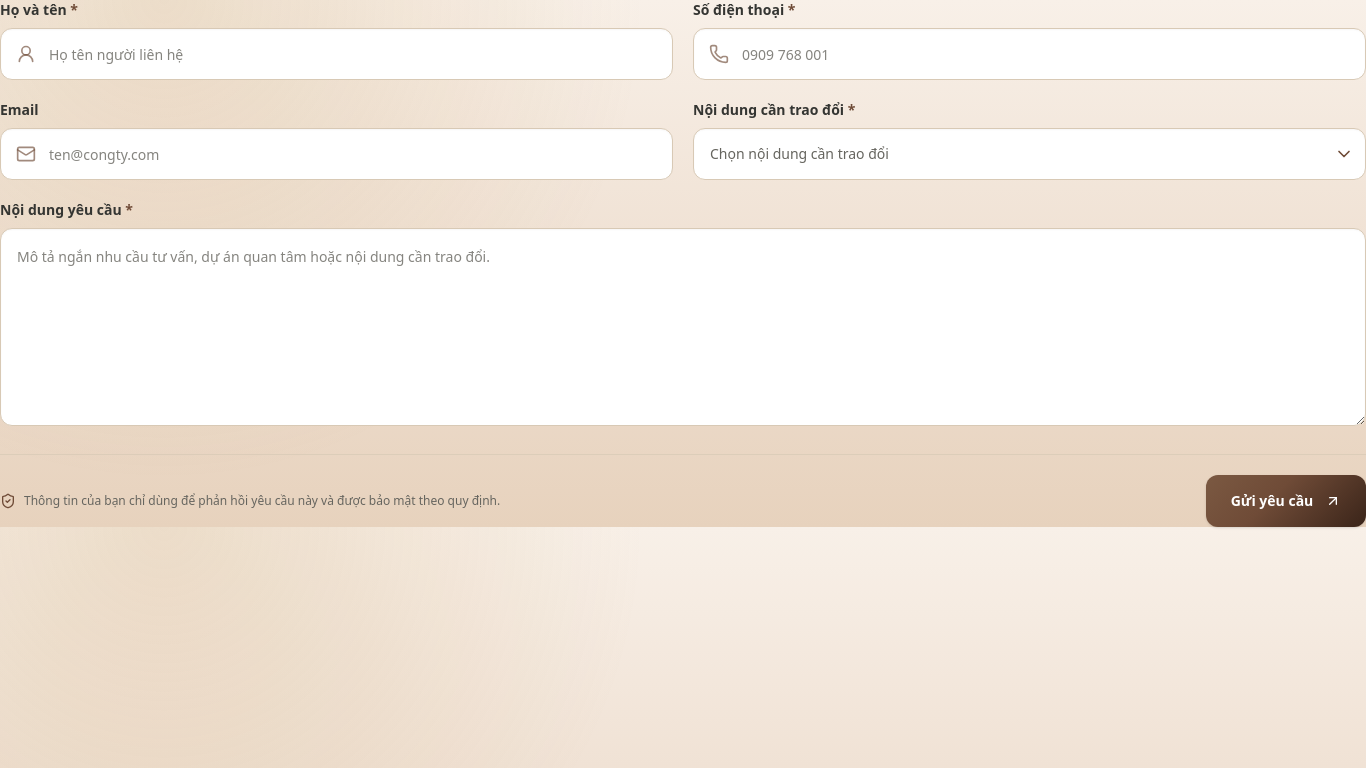
Test: ContactForm › gửi hợp lệ → gọi API với phone đã chuẩn hóa, hiện màn hình thành công
Type "Nguyễn Văn A" into the field labelled "Họ và tên *".
click(336, 54); type("Nguyễn Văn A")  # box x1=0 y1=28 x2=673 y2=80
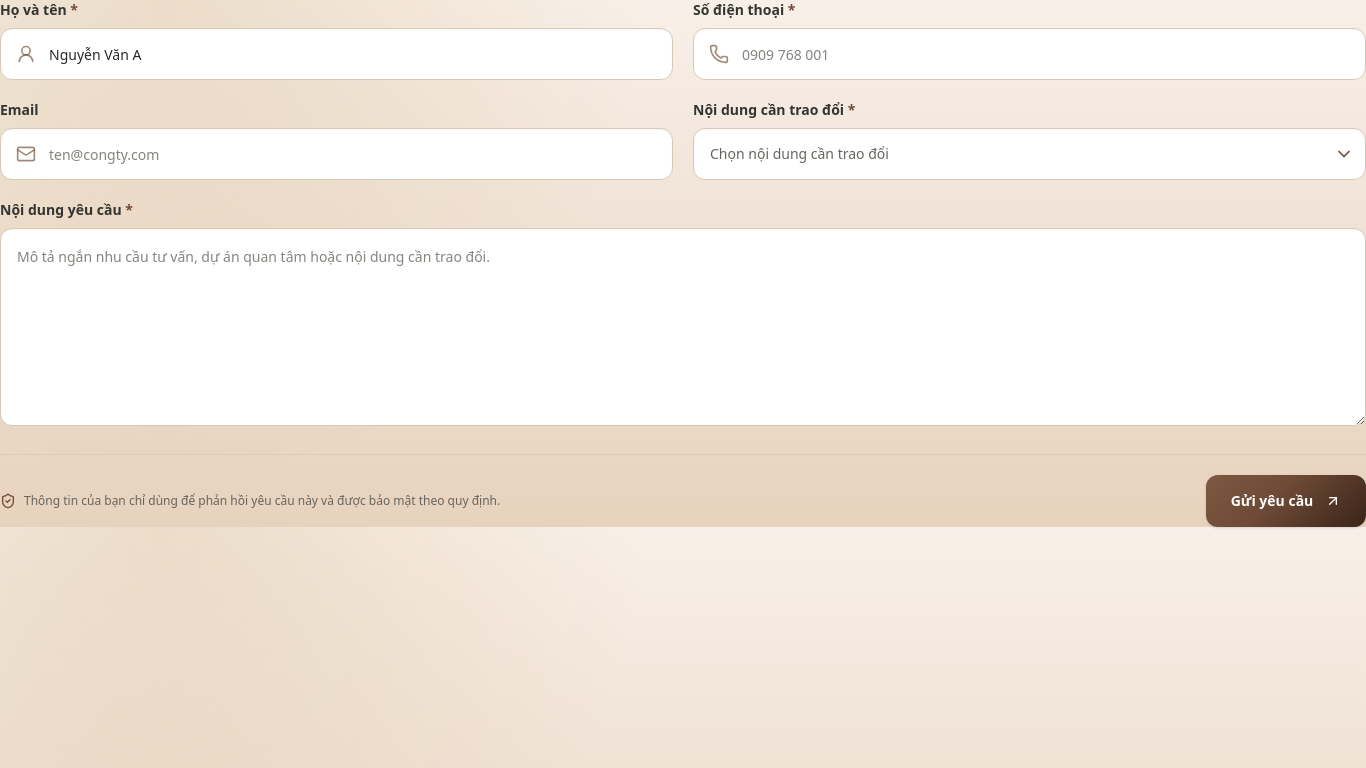
Type "0901 234 567" into the field labelled "Số điện thoại *".
click(1030, 54); type("0901 234 567")  # box x1=693 y1=28 x2=1365 y2=80
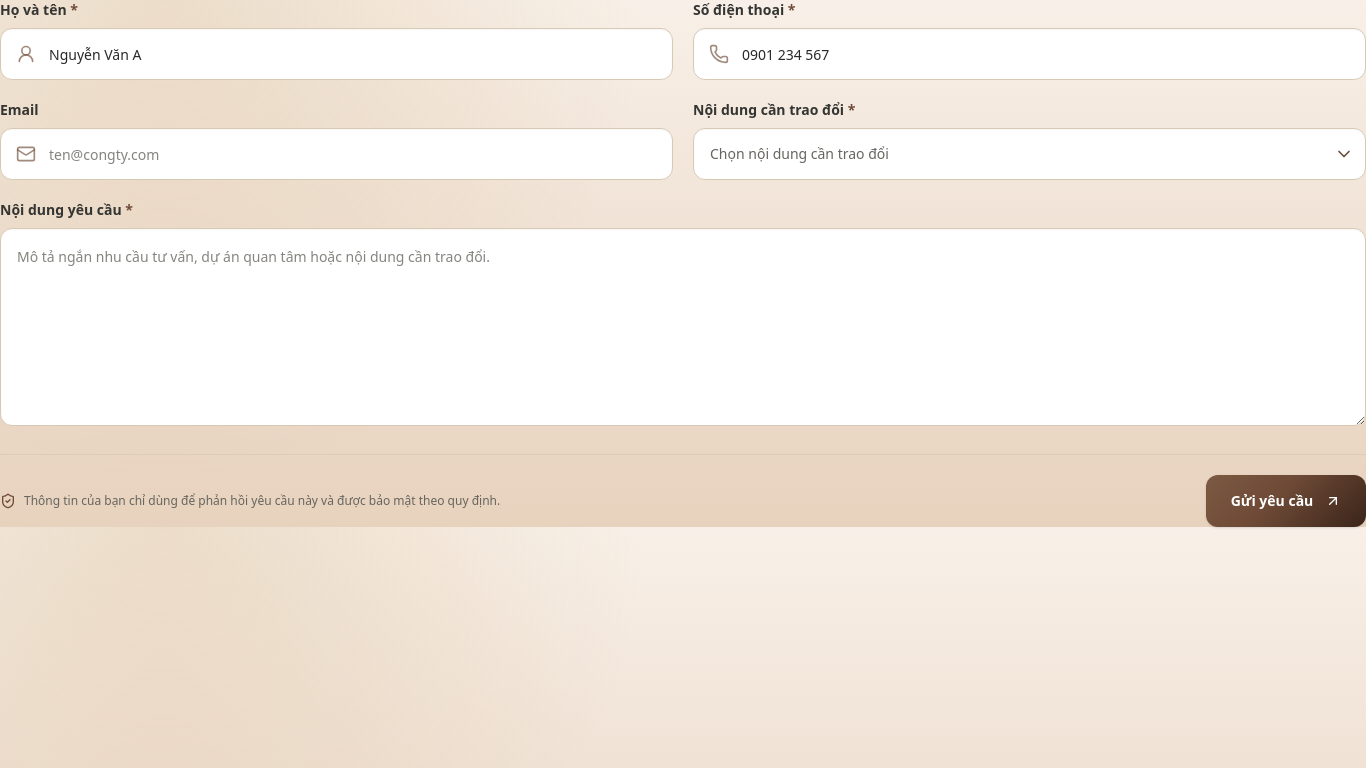
Select "Tư vấn dự án" in the dropdown labelled "Nội dung cần trao đổi *" at (1030, 154), box x1=693 y1=128 x2=1365 y2=180
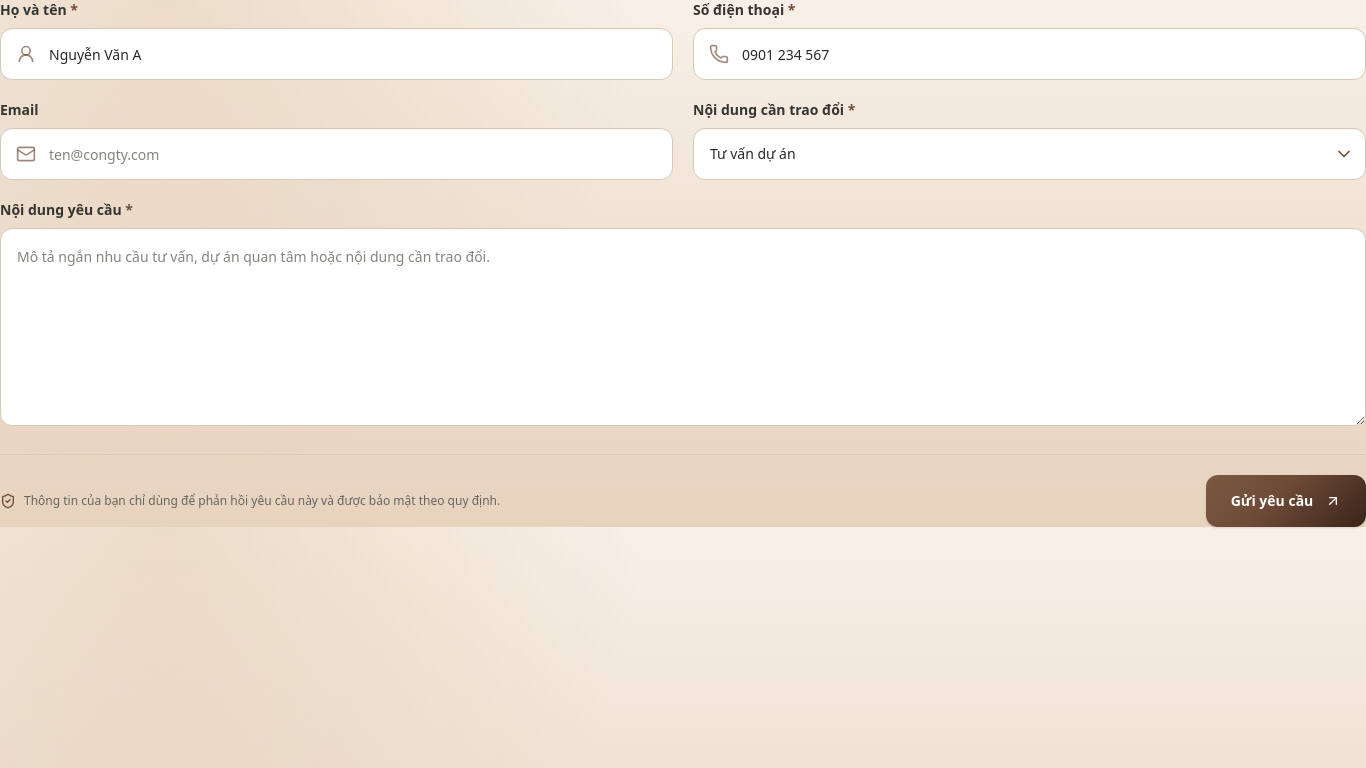
Replace the text in the text box labelled "Nội dung yêu cầu *" with "Tôi muốn được tư vấn về dự án Hưng Phú." at (683, 327), box x1=0 y1=228 x2=1365 y2=426
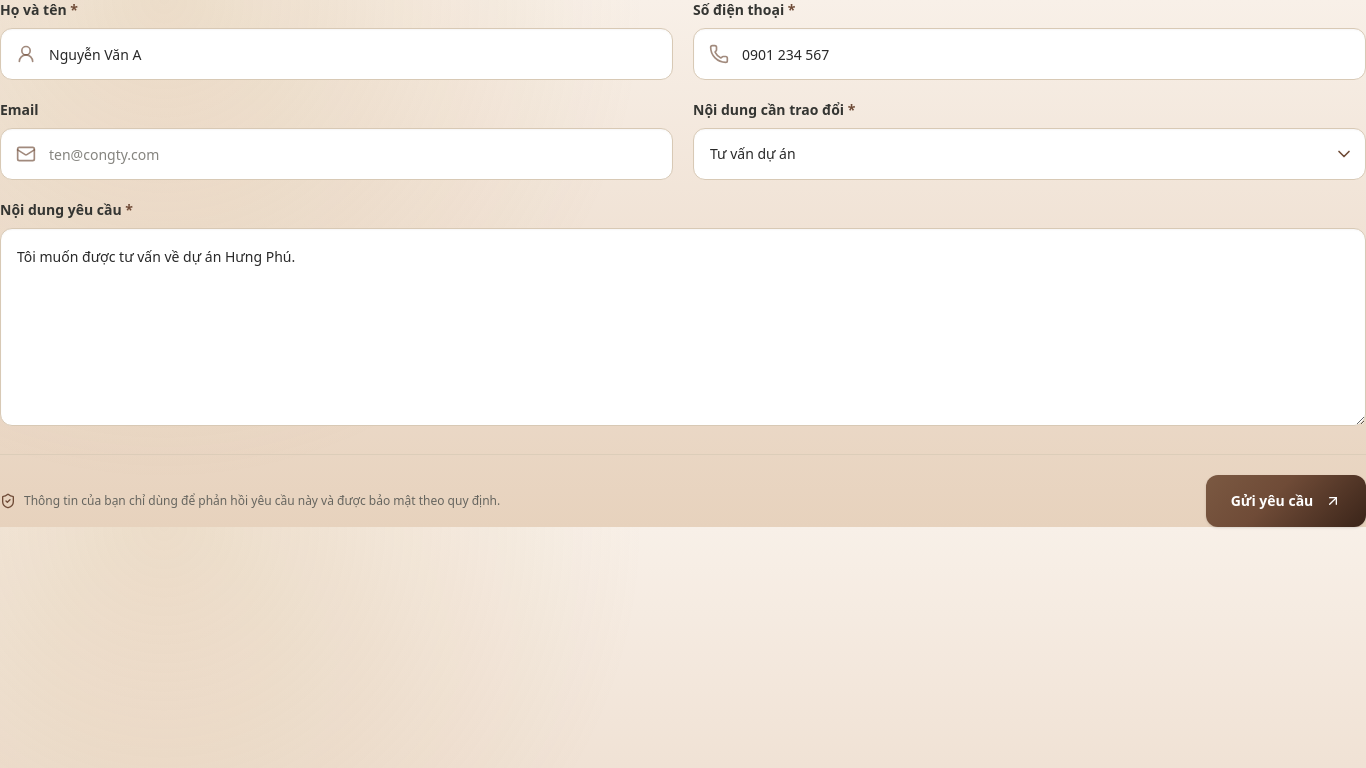
Click the button "Gửi yêu cầu".
click(1286, 501)  # box x1=1206 y1=475 x2=1365 y2=527
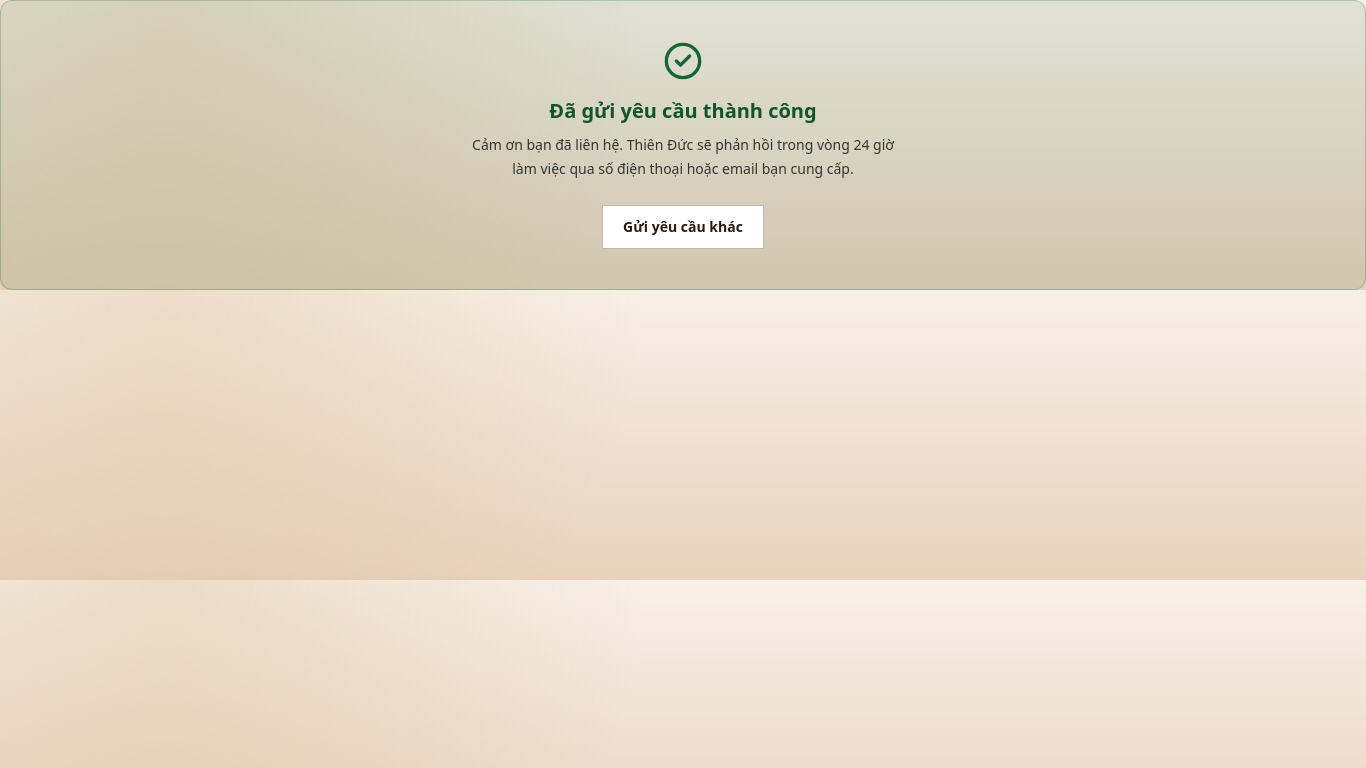
Expected: the heading "Đã gửi yêu cầu thành công" is shown, x1=549 y1=97 x2=817 y2=124
